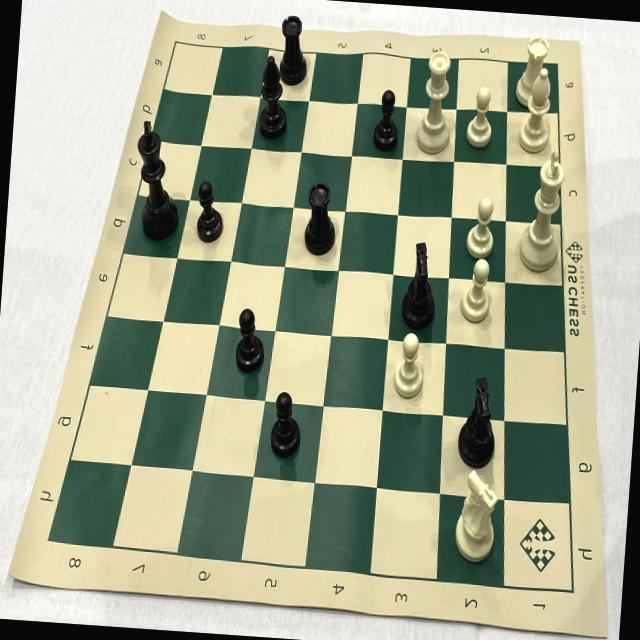black-bishop: (250, 52, 295, 146)
black-king: (125, 113, 188, 244)
black-knight: (450, 366, 506, 474), (394, 232, 444, 340)
black-pawn: (230, 299, 272, 382), (262, 382, 304, 464), (369, 85, 407, 161), (192, 172, 228, 248)
black-rook: (296, 174, 343, 264), (272, 6, 314, 90)
white-bishop: (514, 64, 560, 156)
white-king: (512, 142, 572, 278)
white-knight: (444, 463, 506, 573)
white-pawn: (456, 77, 501, 156), (454, 252, 498, 330), (386, 328, 430, 404), (460, 190, 501, 264)
white-queen: (406, 44, 462, 162)
white-rook: (508, 30, 555, 114)
